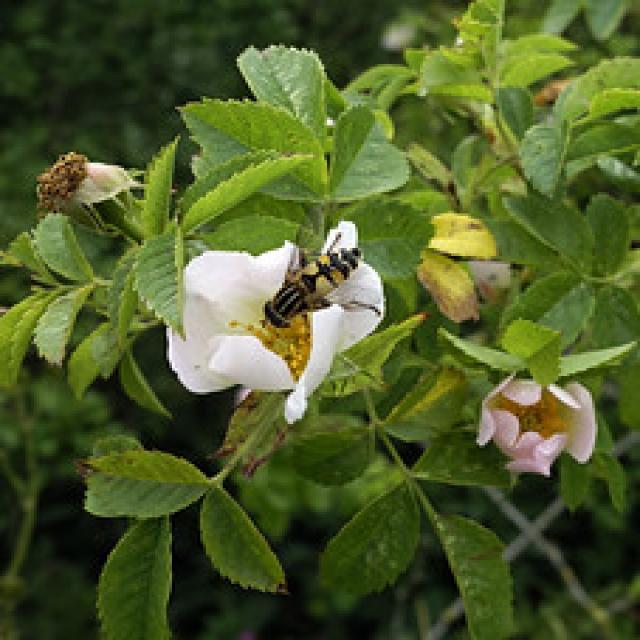Guepe: (250, 218, 380, 344)
